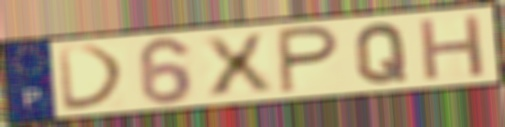6: (137, 34, 194, 107)
D: (55, 43, 130, 114)
H: (415, 11, 488, 83)
P: (275, 23, 343, 96)
Q: (353, 21, 410, 86)
X: (197, 31, 278, 100)
